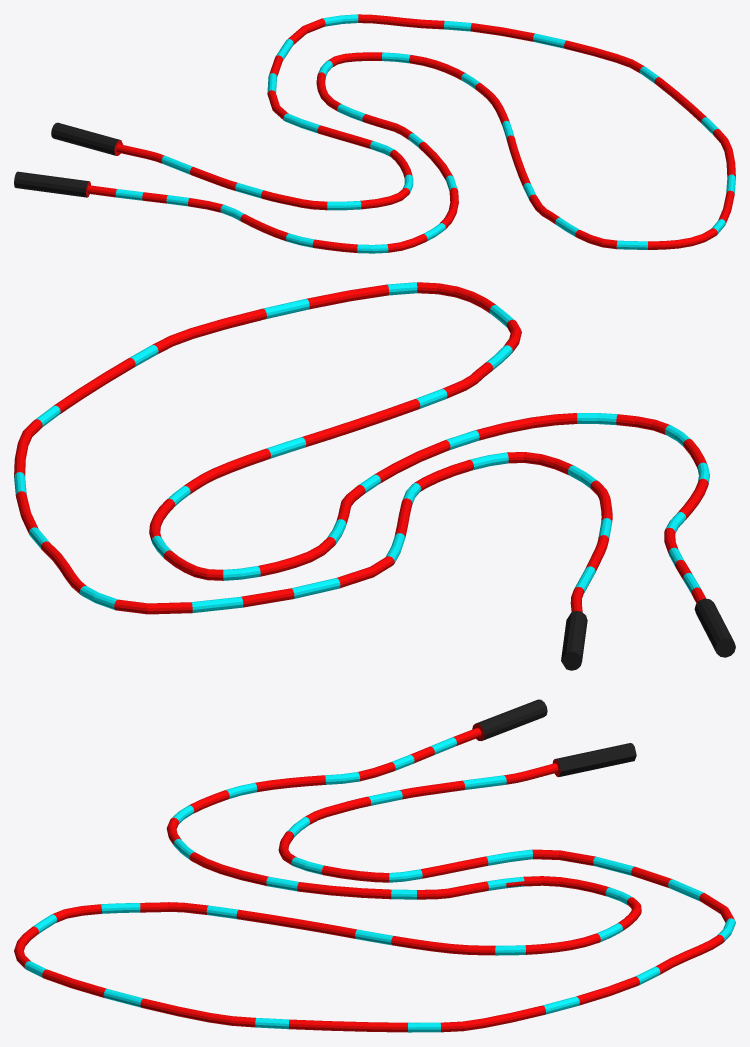
Rendered from Jumprope-transformed.glb.
3 views of the same model, one above another, from view 1: azimuth 30°, elevation 25°; view 2: azimuth 150°, elevation 25°; view 3: azimuth 270°, elevation 25° (orthographic). The views are drawn at different scales.
Parts seen in each view (by area): view 1: Line003; view 2: Line003; view 3: Line003.
Boxes of the visible parts, x1,y1,x2,y2 form: Line003: (14,14,735,253); Line003: (14,282,735,670); Line003: (14,699,735,1032).
Bounding box in the file's own units: 682546 × 16577 × 642052.
